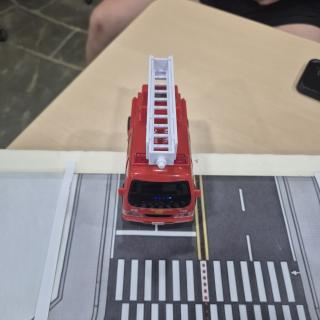Fire_truck: (119, 59, 200, 225)
